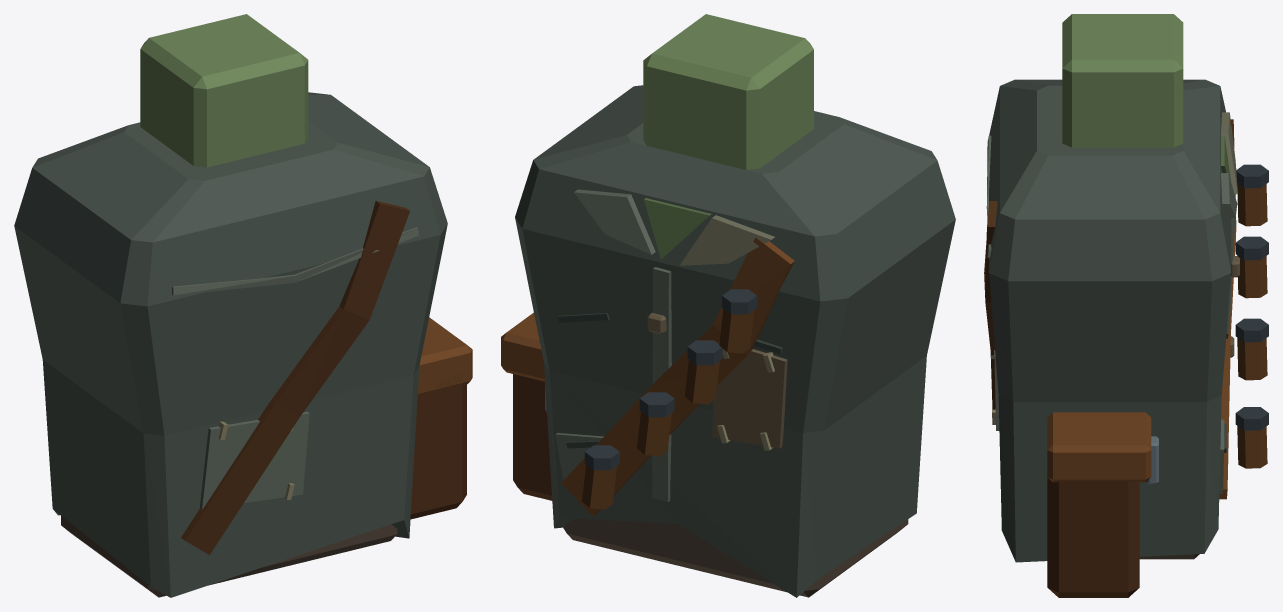
Rendered from Body.glb.
The picture shows the model from 3 angles, left to right: view 1: azimuth 30°, elevation 25°; view 2: azimuth 150°, elevation 25°; view 3: azimuth 270°, elevation 25°; orthographic projection. The views are drawn at different scales.
Parts seen in each view (by area): view 1: Sculpture; view 2: Sculpture; view 3: Sculpture.
Part boxes in pixels (<box>): Sculpture: <box>14,14,472,597</box>; Sculpture: <box>501,14,955,597</box>; Sculpture: <box>984,14,1268,597</box>.
Bounding box in the file's own units: 0.654 × 0.81 × 0.4468.
